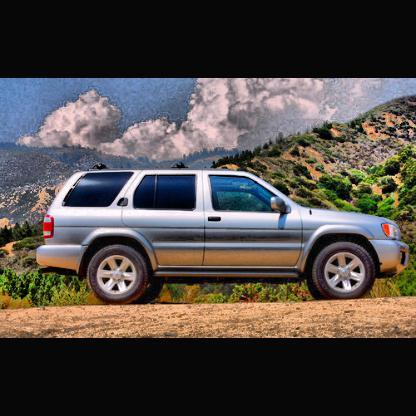Isuzu Ascender SUV 2008: (40, 167, 411, 302)
